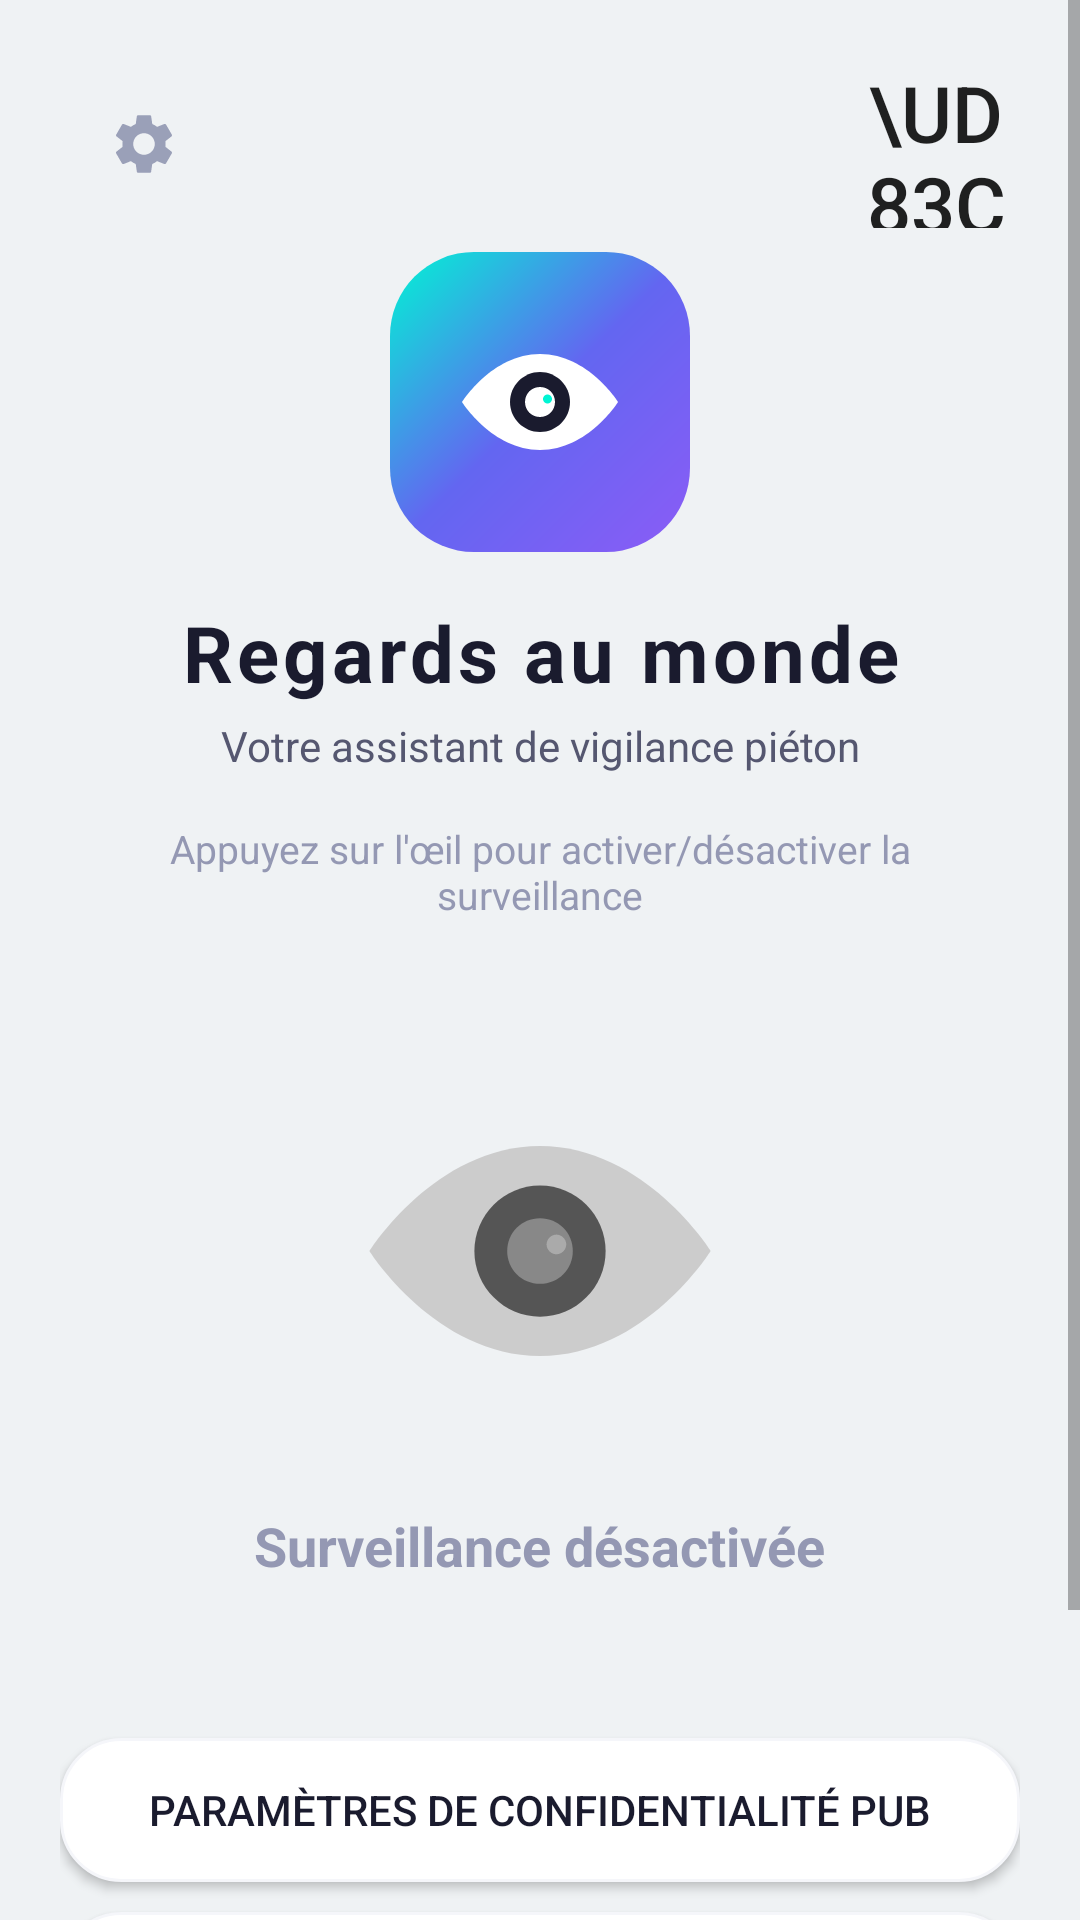

Point at icon controls on the screen. Image size 1080 × 1920, points as (x=x, y=y).
Bouton pour activer ou désactiver la surveillance: (x=540, y=1251)
Réglages: (x=144, y=144)
